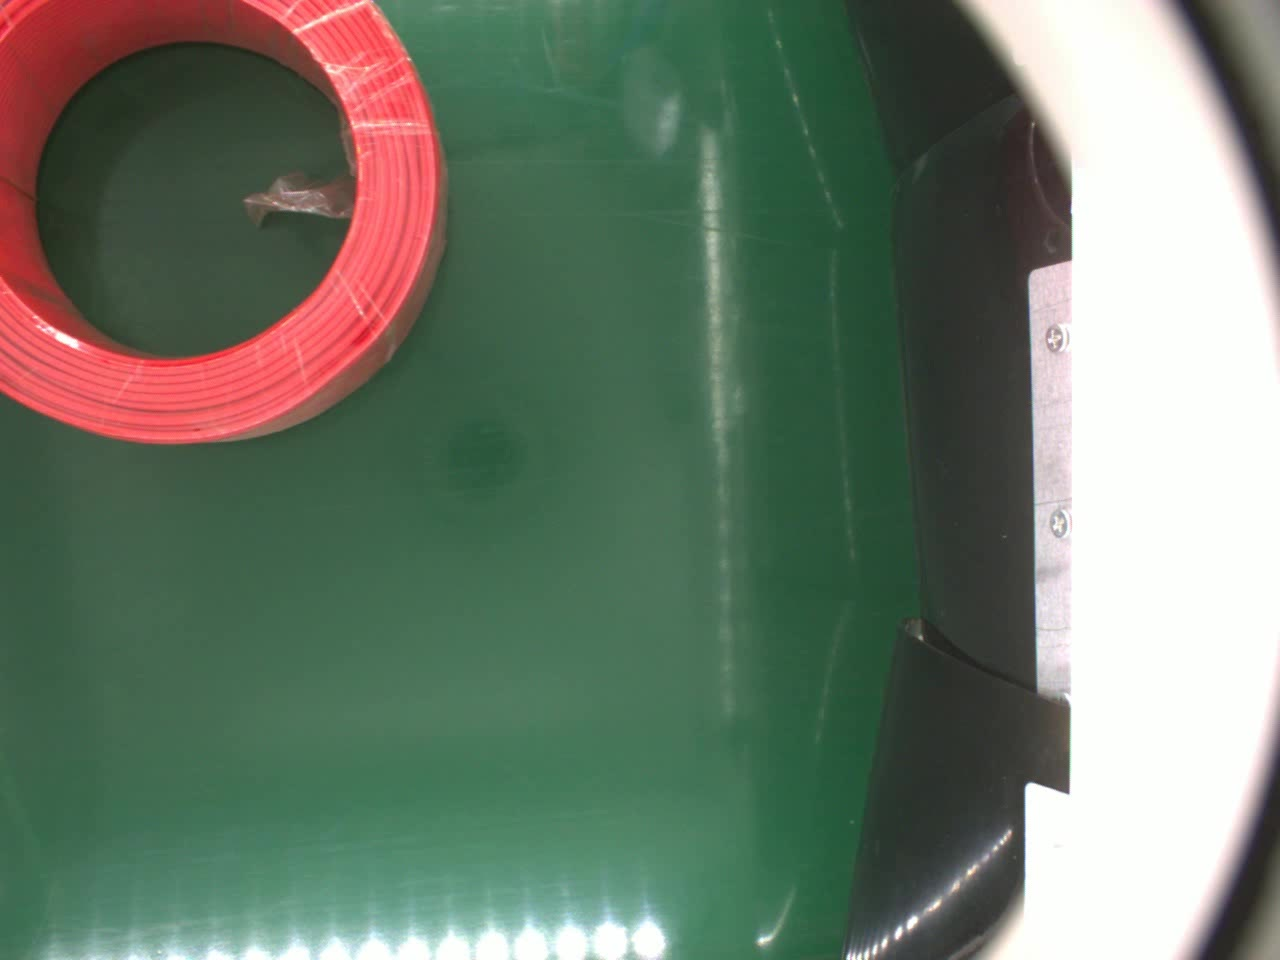red: (0, 2, 447, 449)
